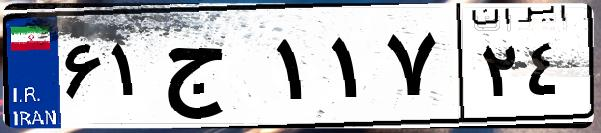1: (270, 28, 330, 110), (330, 28, 385, 110), (110, 28, 158, 98)
2: (475, 38, 525, 113)
4: (525, 38, 570, 115)
6: (57, 26, 110, 100)
7: (385, 28, 445, 110)
ج: (158, 20, 270, 120)
